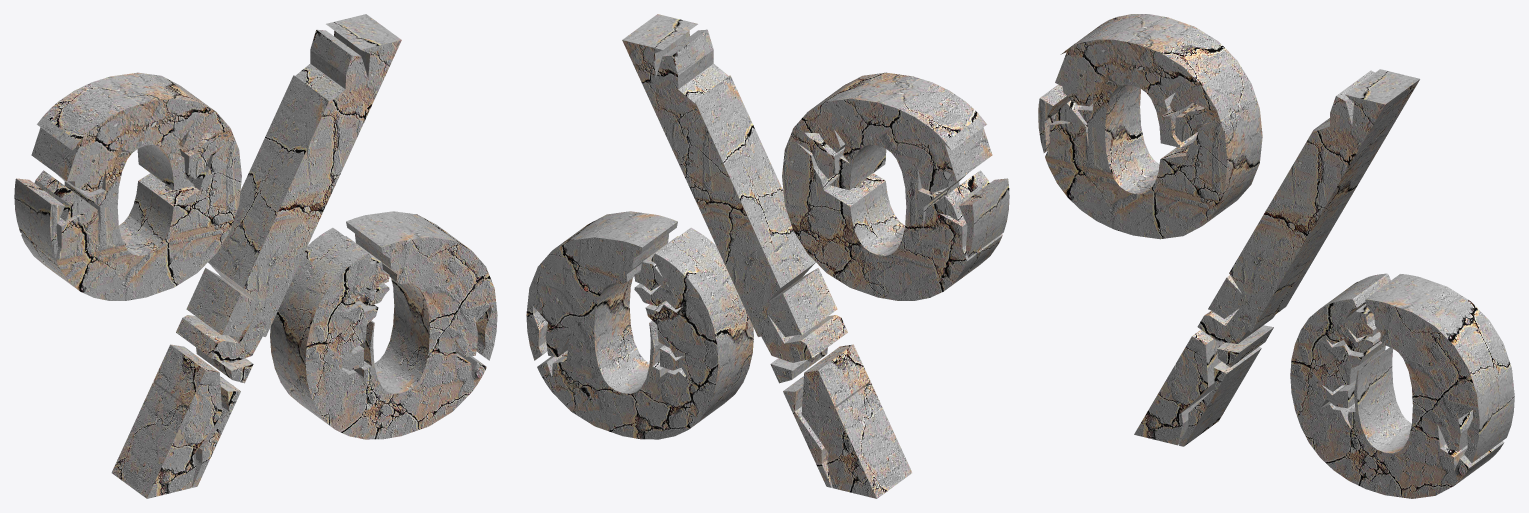
Rendered from Interest.FBX.
3 renders of one model, left to right at view 1: azimuth 30°, elevation 25°; view 2: azimuth 150°, elevation 25°; view 3: azimuth 330°, elevation 25°, orthographic.
Visible parts, largest first — view 1: Interest; view 2: Interest; view 3: Interest.
Part boxes in pixels (box(x1,y1,x2,y2)): Interest: box(14, 14, 497, 498); Interest: box(526, 14, 1009, 498); Interest: box(1038, 14, 1514, 498).
Size of the model in its own units: 109 by 92.31 by 15.
Materials: 1 (1 with a texture image).
